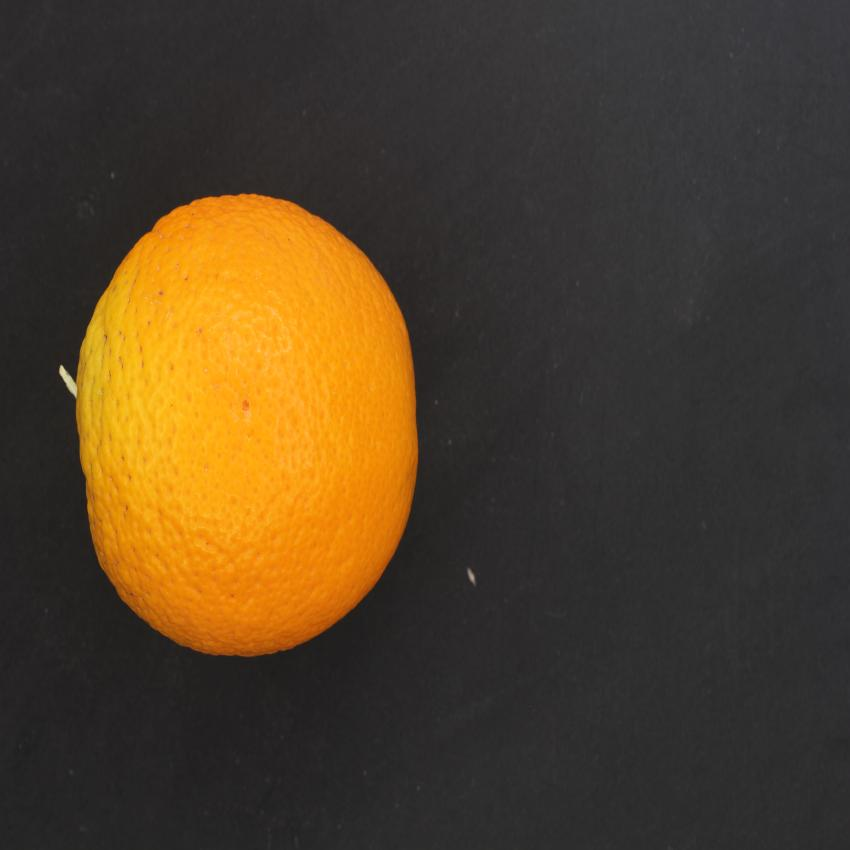Buen estado: (68, 176, 430, 669)
